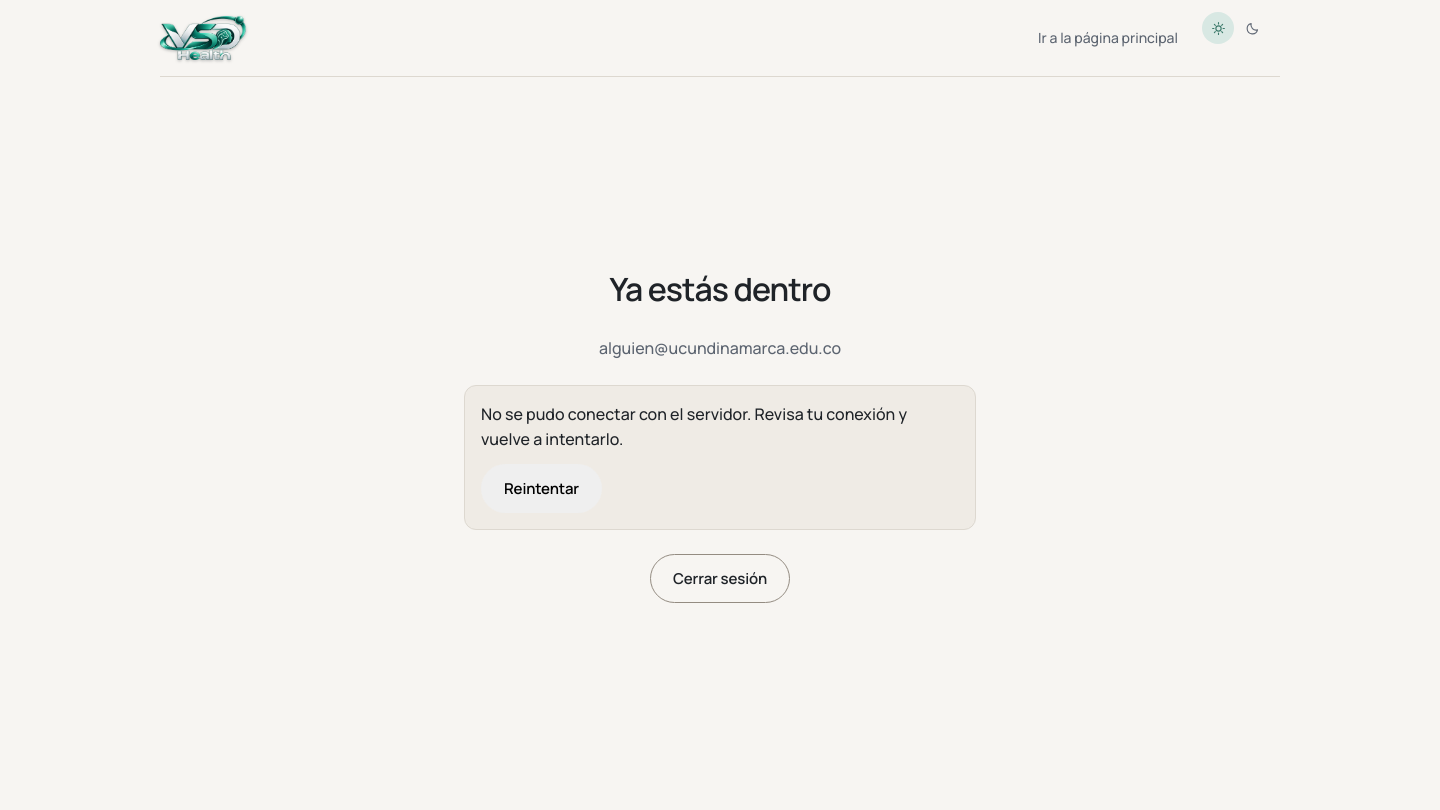
Scenario: Panel › si no se puede conectar, lo explica y deja reintentar
(page scrolled)
Expected: the message shows "No se pudo conectar con el servidor", x1=481 y1=403 x2=907 y2=450
Click the button "Reintentar" at (542, 488), box x1=481 y1=464 x2=602 y2=513
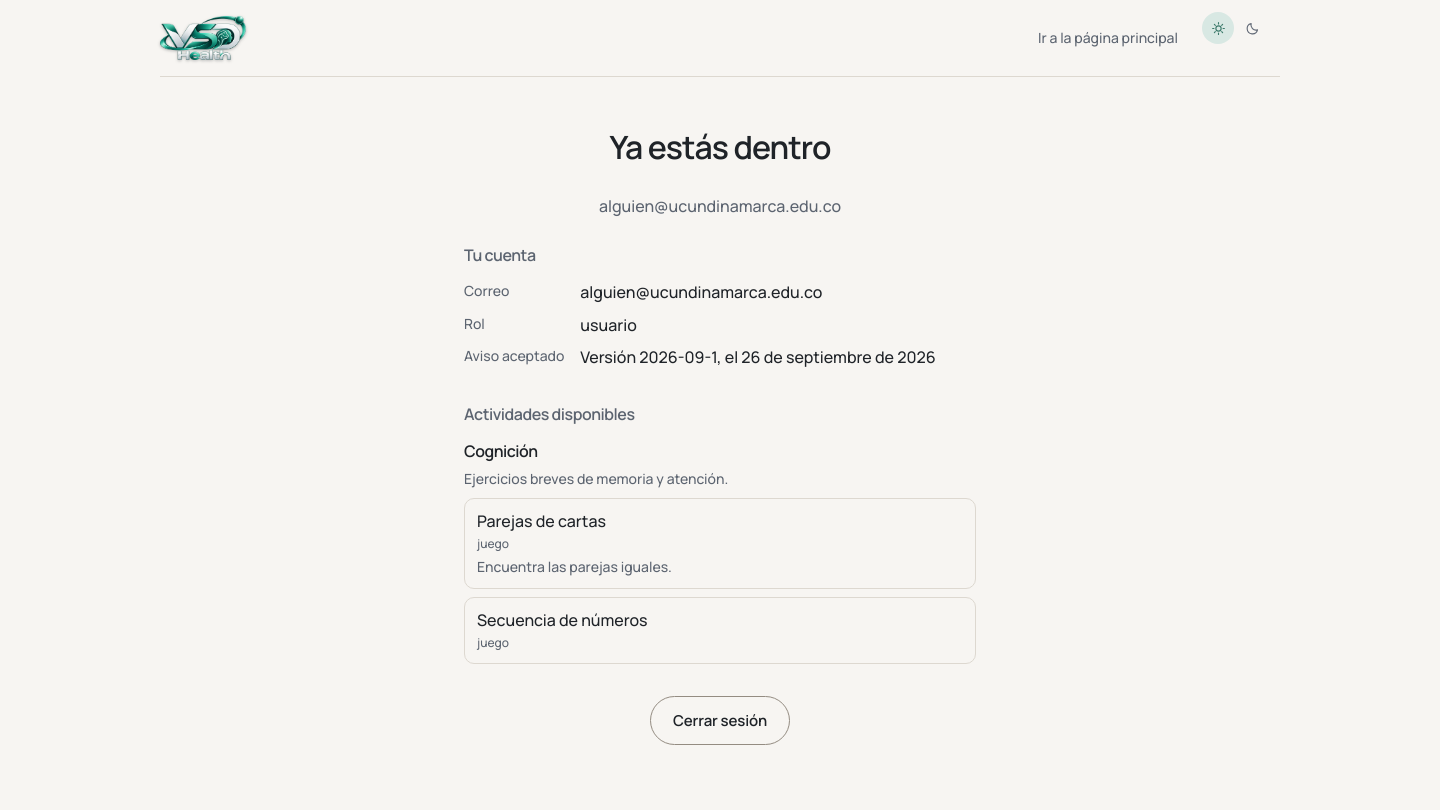
Result: the heading "Tu cuenta" is shown at x1=464 y1=244 x2=536 y2=266
Result: the message is gone
